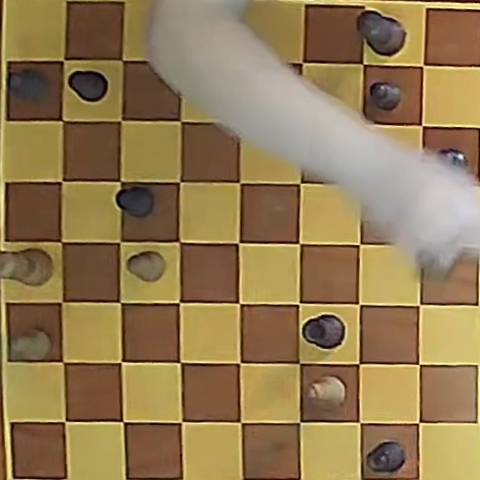black-king: (358, 10, 406, 56)
black-pawn: (9, 68, 50, 102), (115, 185, 155, 218), (68, 70, 109, 102), (369, 82, 402, 111), (437, 147, 469, 170)
black-rook: (303, 314, 345, 349), (366, 441, 405, 473)
white-bishop: (306, 376, 345, 410)
white-king: (1, 248, 53, 285)
white-pawn: (9, 330, 52, 362), (127, 251, 166, 282)
